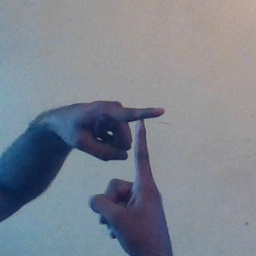T: (78, 92, 178, 210)
